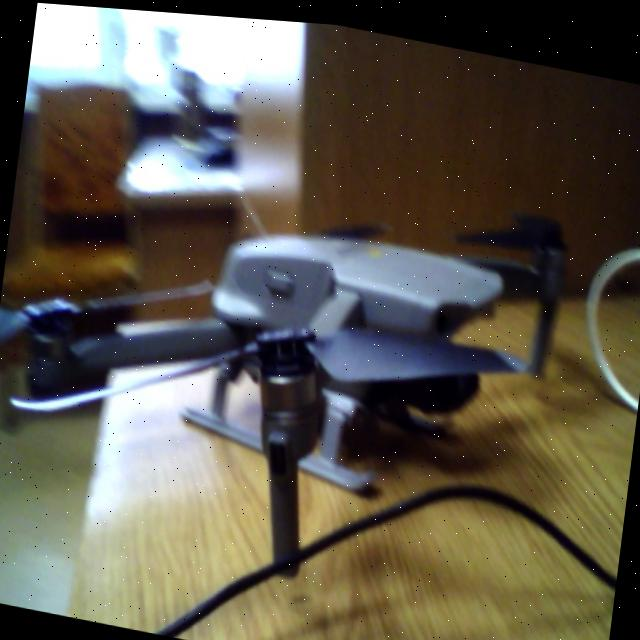drone: (0, 105, 632, 617)
